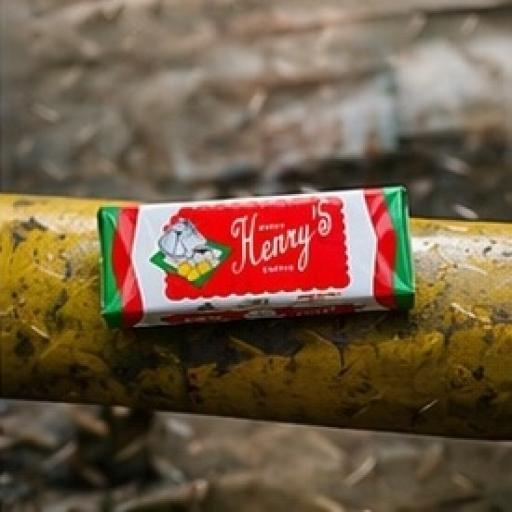golden: (60, 156, 452, 401)
